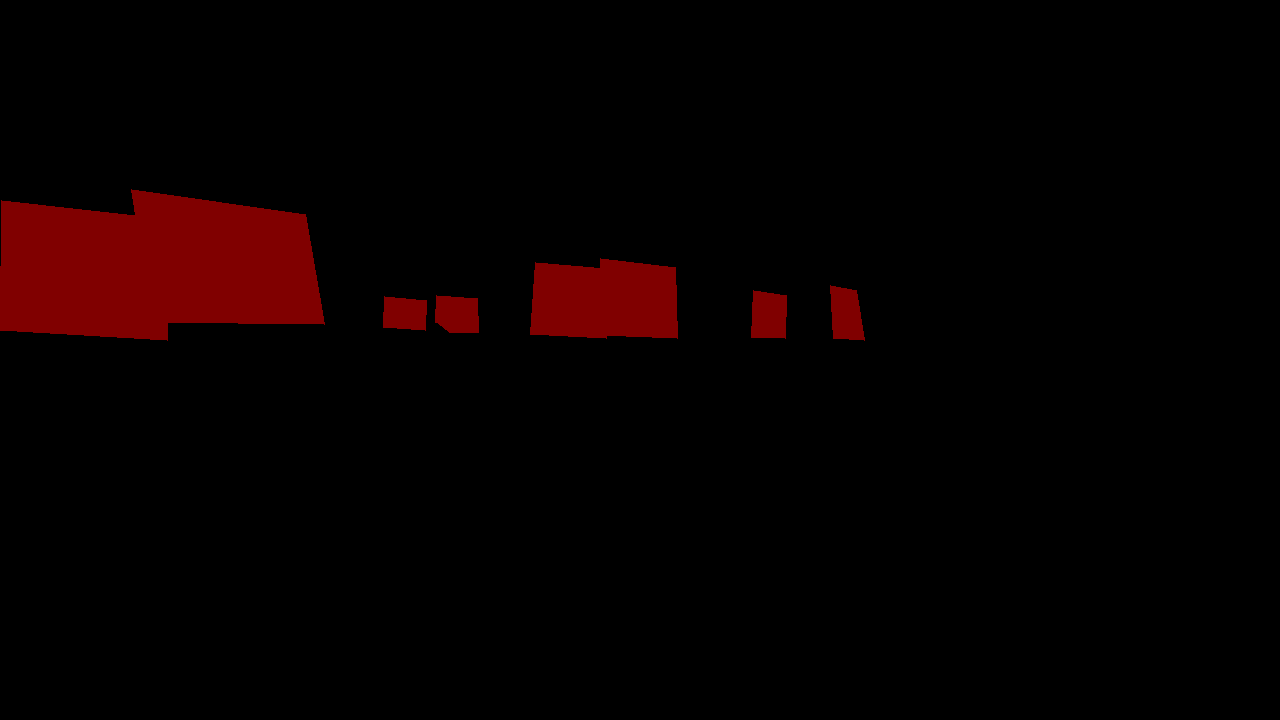tvmonitor: (131, 189, 324, 324), (0, 200, 170, 340), (600, 258, 677, 338), (530, 262, 606, 338), (830, 285, 864, 340), (751, 290, 786, 338), (435, 295, 478, 332), (383, 296, 426, 330)
